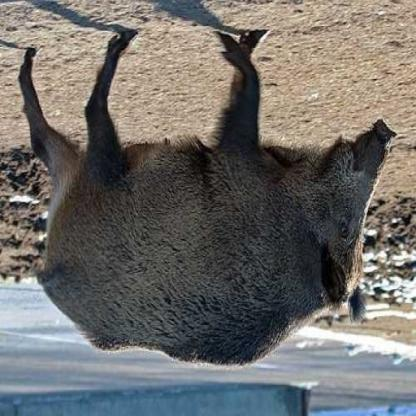boar: (6, 8, 402, 396)
